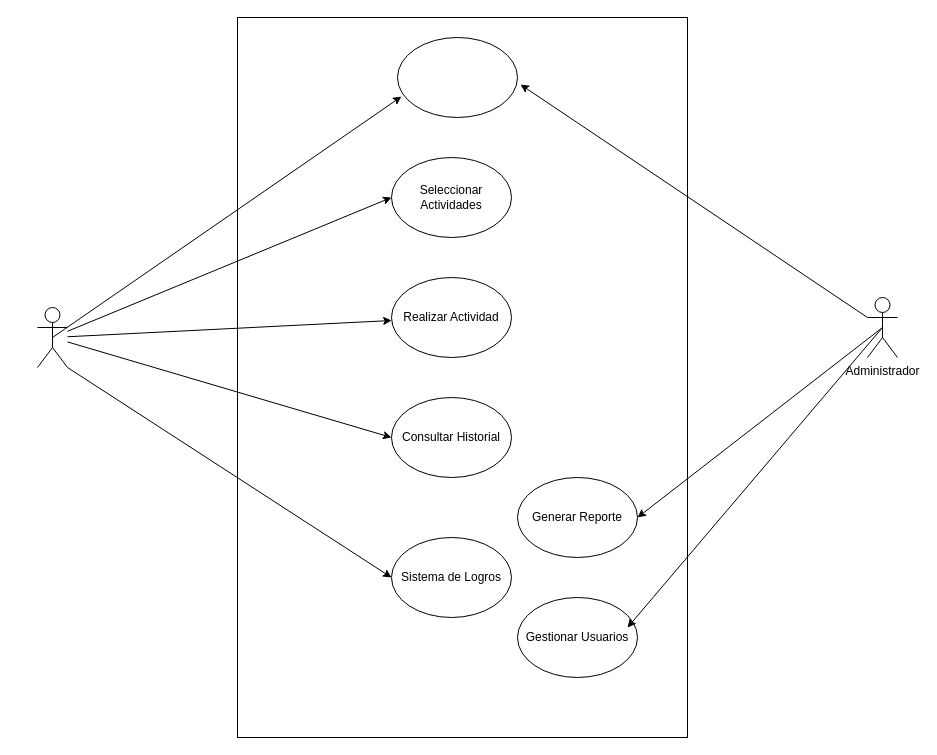
The diagram is 937 pixels wide and 755 high, and some of its shapes have lost their labels. Here are the shapes that lost their labels. From the top down, the box of each, then its label:
(396, 36, 518, 118): Iniciar sesión/Crear cuenta
(36, 306, 68, 368): Adulto Mayor
